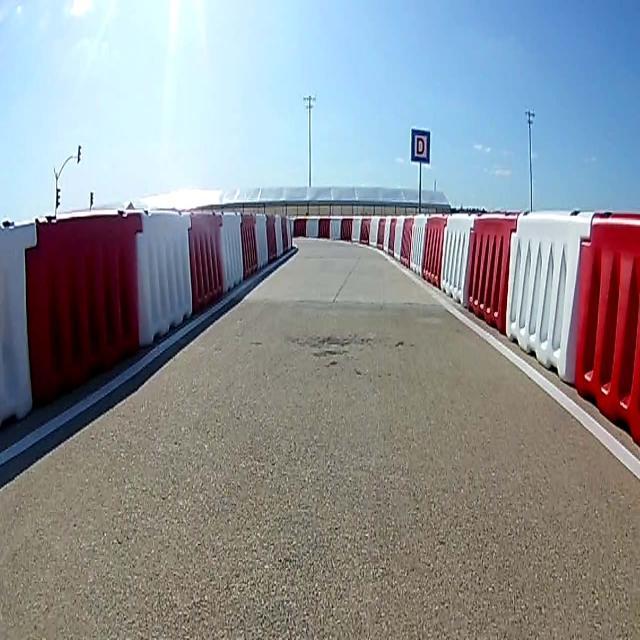durak: (410, 128, 430, 164)
